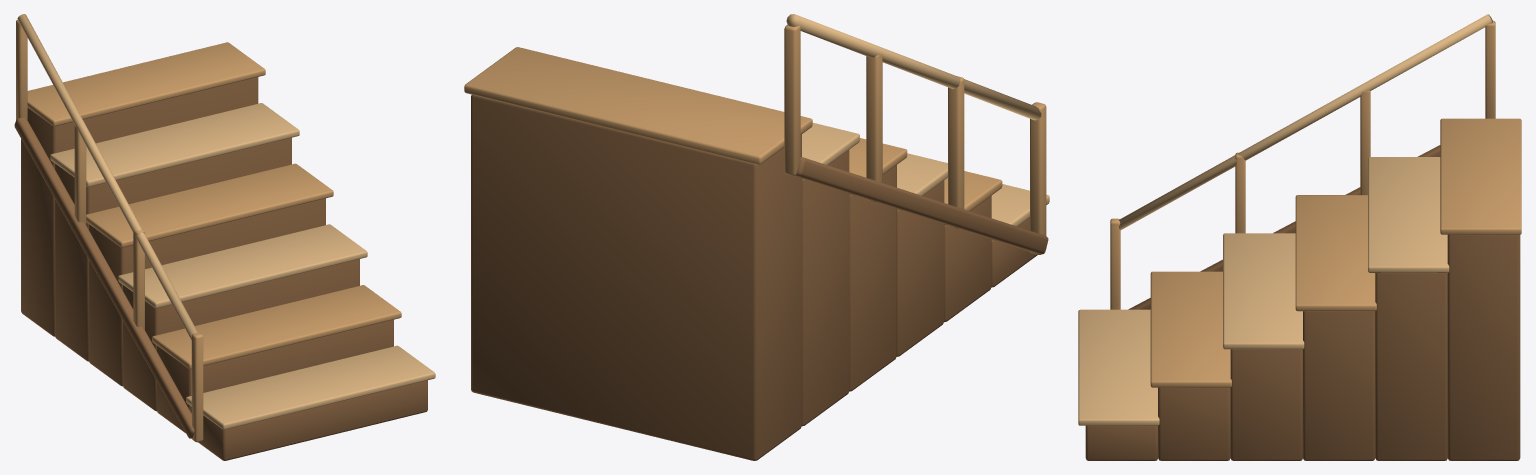
The model's file is home-stairs.glb.
3 renders of one model, left to right at view 1: azimuth 30°, elevation 25°; view 2: azimuth 150°, elevation 25°; view 3: azimuth 270°, elevation 25°, orthographic. The views are drawn at different scales.
Parts seen in each view (by area): view 1: stairs; view 2: stairs; view 3: stairs.
Boxes of the visible parts, x1,y1,x2,y2 form: stairs: [14, 14, 435, 460]; stairs: [464, 14, 1049, 460]; stairs: [1078, 14, 1521, 460].
Bounding box in the file's own units: 1.89 × 2.48 × 2.98.
